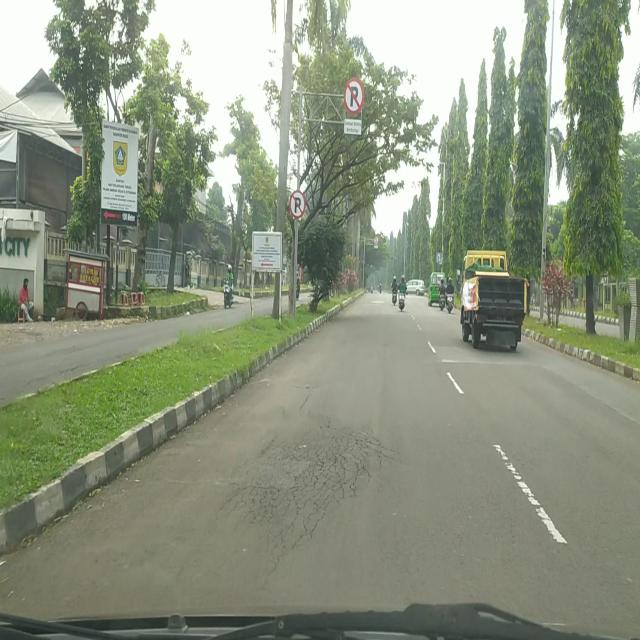Drain Hole: (210, 416, 383, 569)
